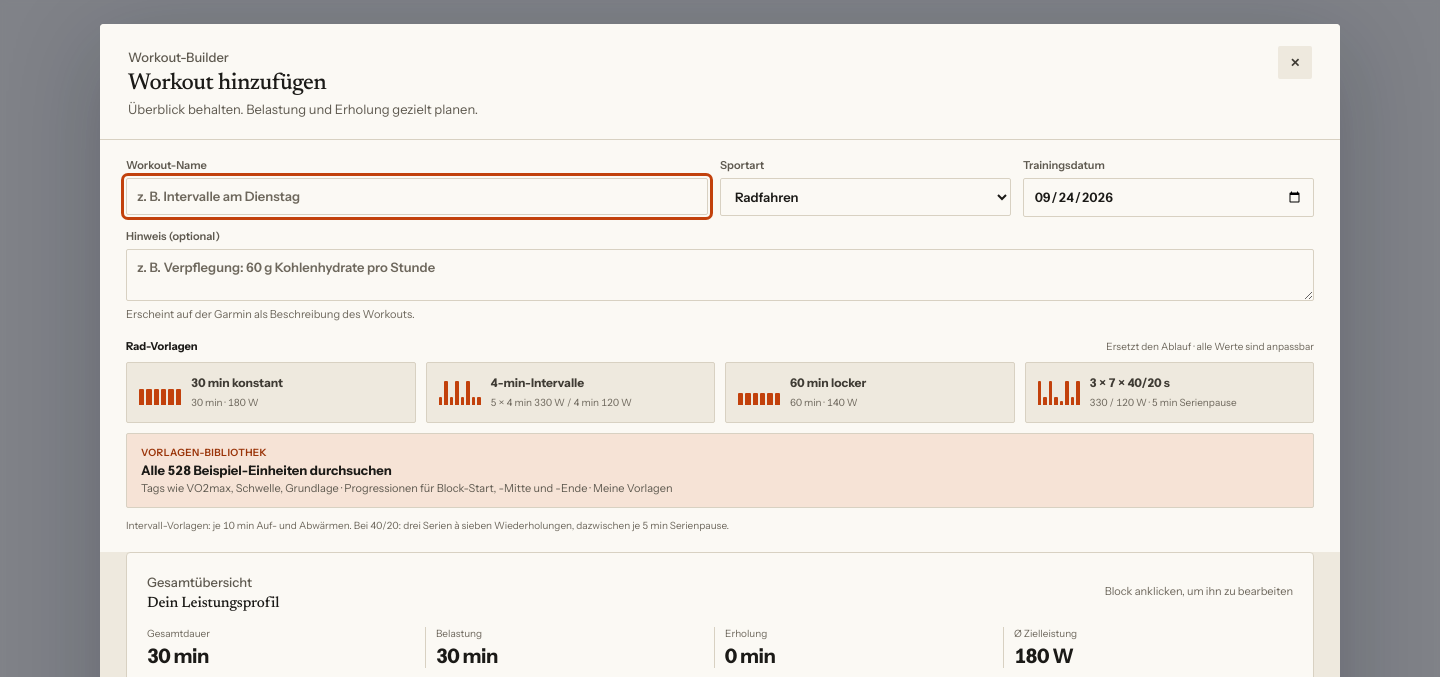
Test: work steps are coloured below, at and above the threshold
Click the button that starts with "Vorlagen-Bibliothek" at (204, 453), box x1=126 y1=433 x2=1314 y2=508
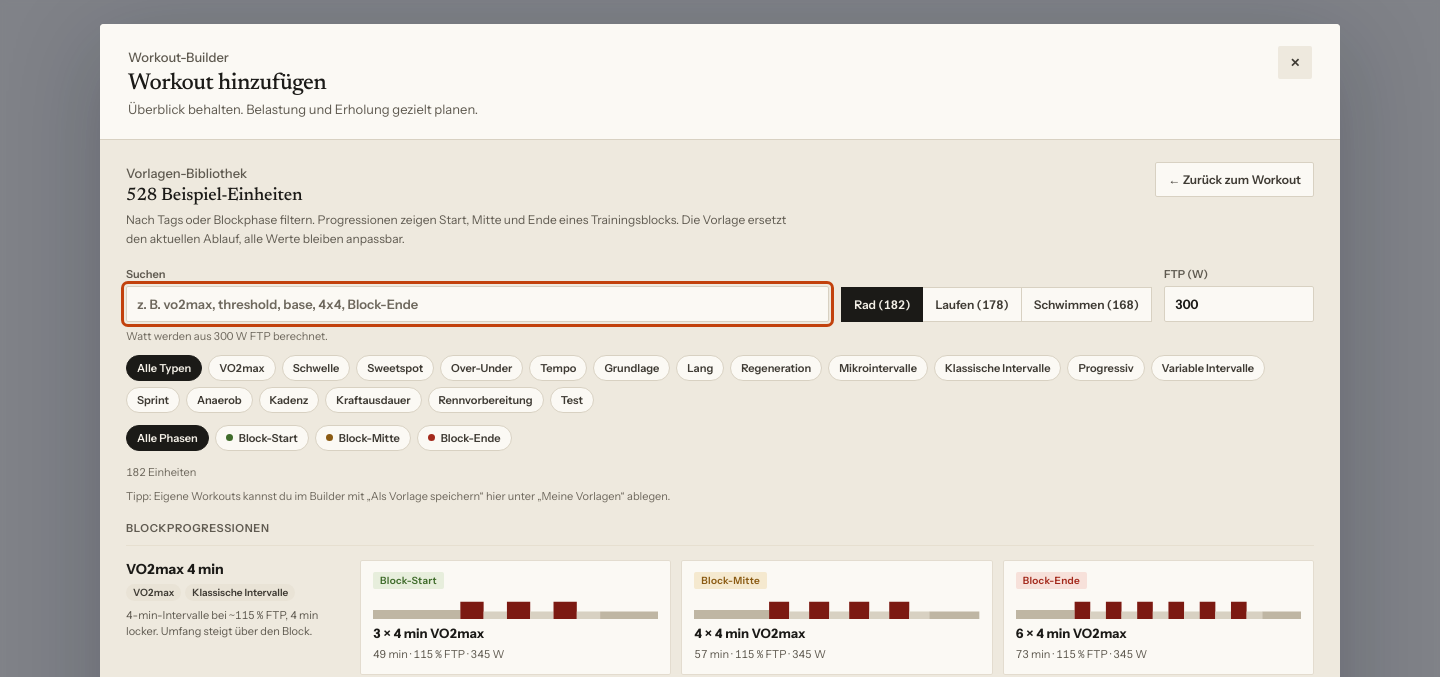
Click the button "Sweetspot" at (395, 368), box x1=356 y1=355 x2=434 y2=381
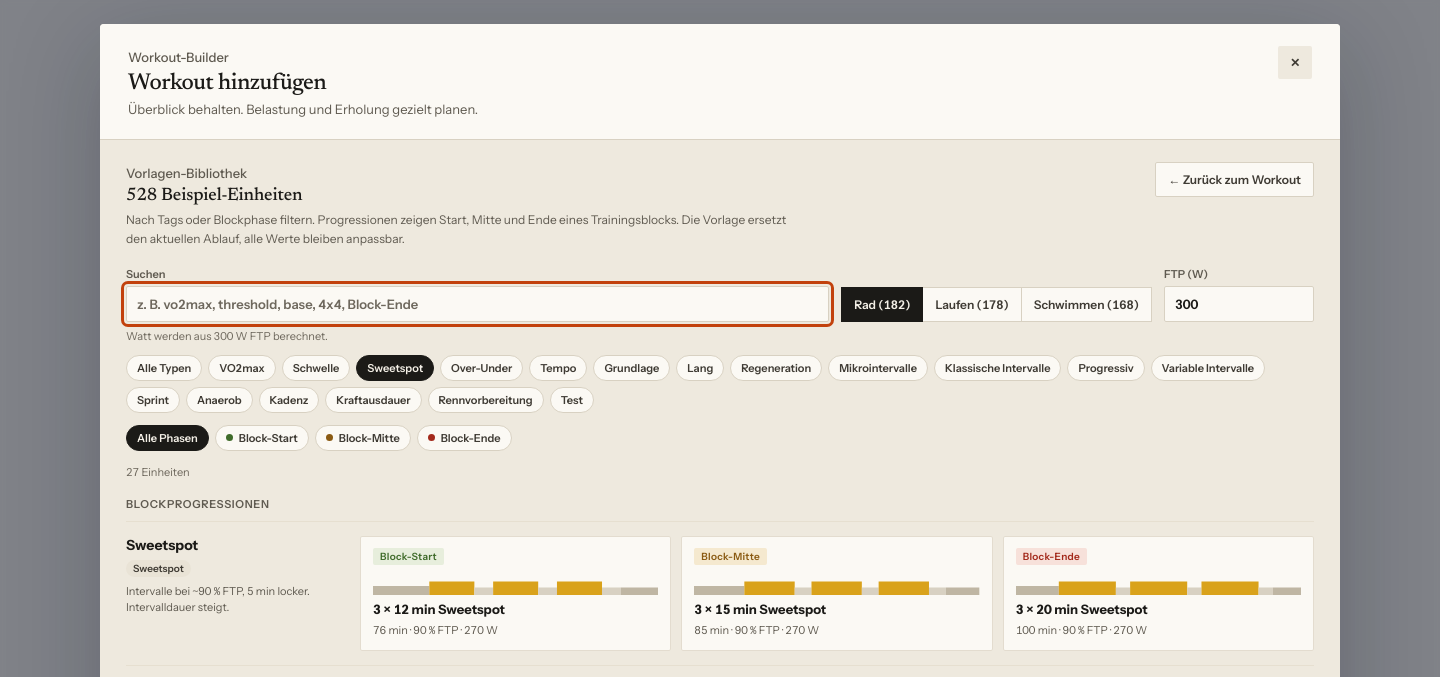
Check: the element with class "zone-sweetspot" is shown, box x1=429 y1=581 x2=474 y2=595
Click the button "Block-Start 3 × 12 min Sweetspot 76 min · 90 % FTP · 270 W" at (516, 593), box x1=360 y1=536 x2=671 y2=651
(page scrolled)
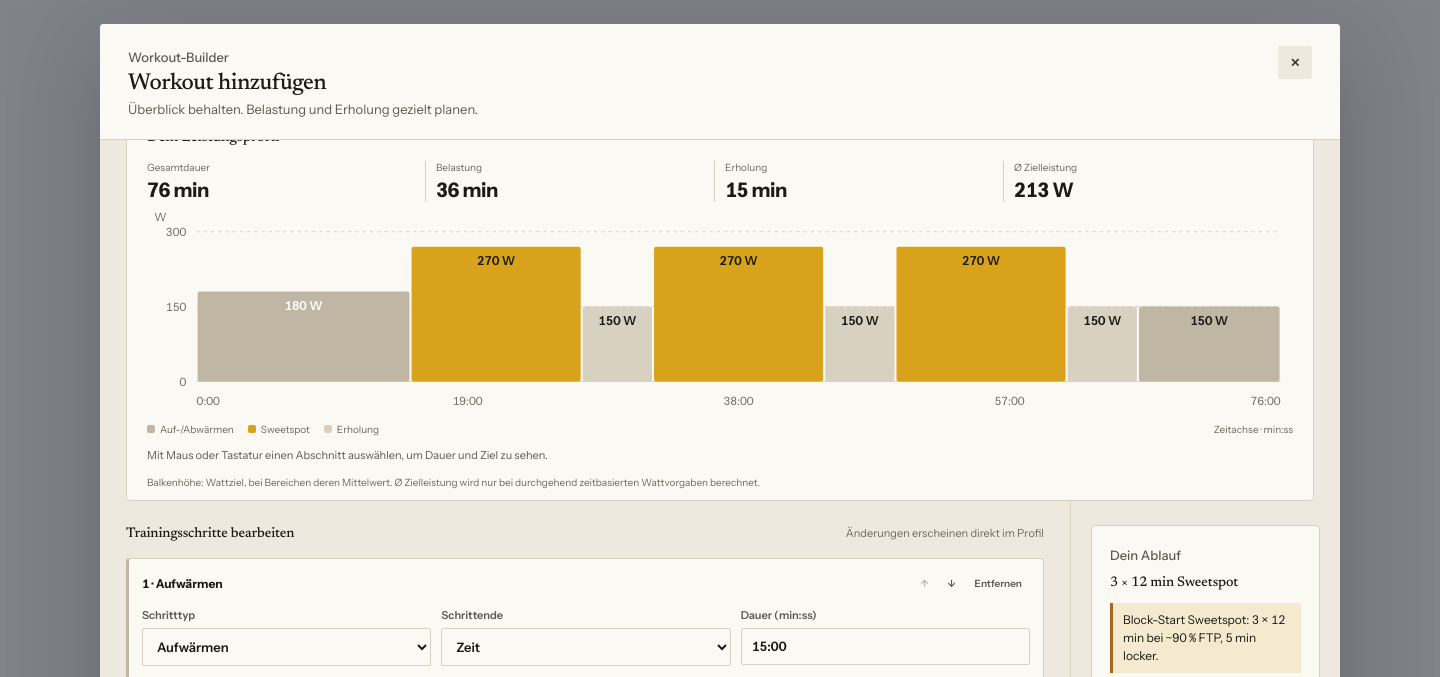
Check: the element with class "workout-chart-legend" does not show "Belastung"
Check: the element with class "workout-chart-legend" shows "Sweetspot", box x1=261 y1=423 x2=310 y2=436
